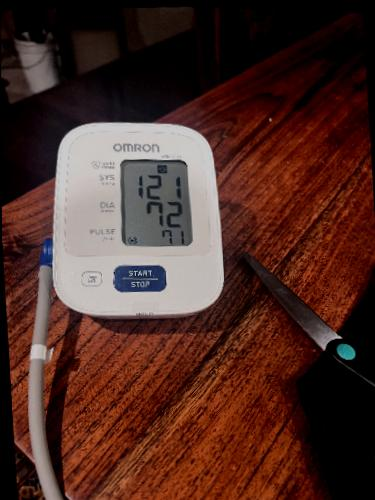bpm: (115, 154, 196, 252)
